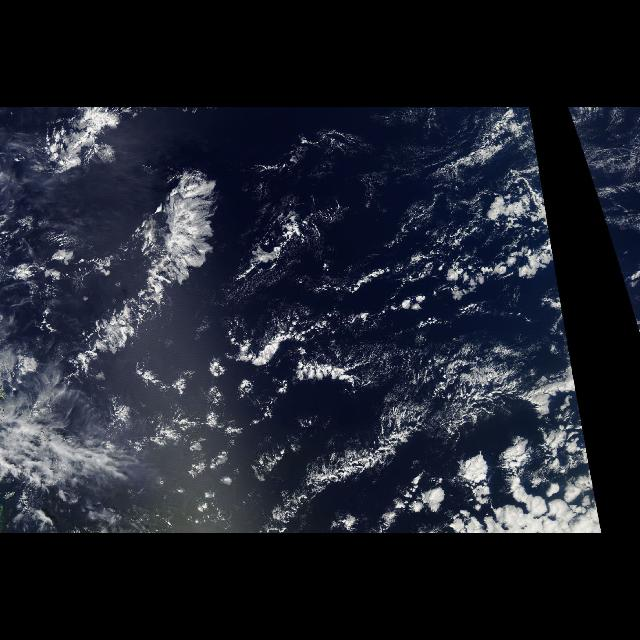Fish: (0, 113, 304, 525)
Sugar: (248, 112, 586, 442), (568, 112, 638, 326)
